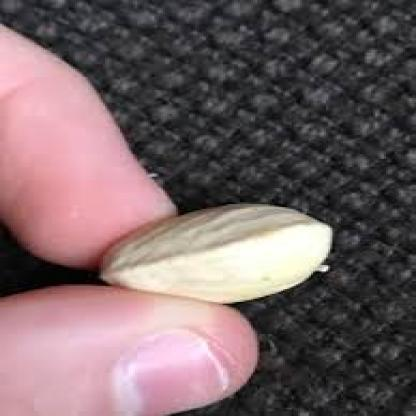pistachio: (101, 209, 337, 305)
